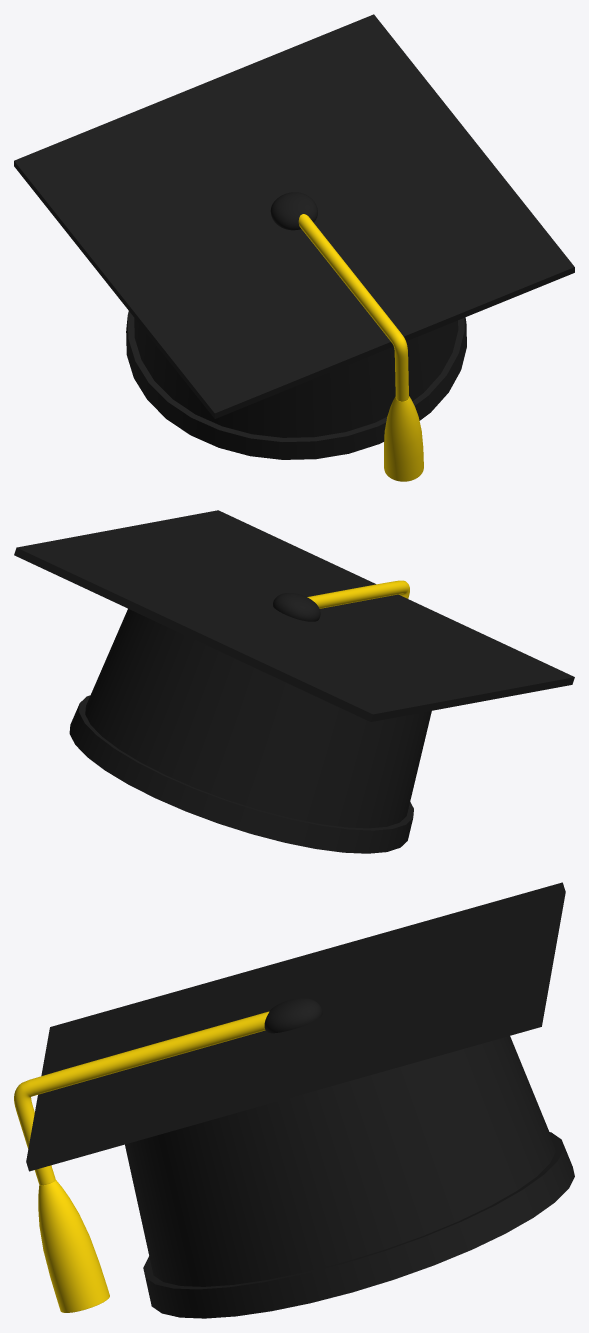
The model's file is custom1.glb.
3 renders of one model, top to bottom at view 1: azimuth 30°, elevation 25°; view 2: azimuth 150°, elevation 25°; view 3: azimuth 270°, elevation 25°, orthographic. The views are drawn at different scales.
Parts seen in each view (by area): view 1: Cube, Cylinder, Cylinder.002, Cube.001; view 2: Cylinder, Cube, Cylinder.002, Cube.001; view 3: Cylinder, Cube, Cylinder.002, Cube.001.
Part boxes in pixels (left/top/right/bottom): Cube: left=14, top=14, right=574, bottom=418; Cylinder: left=126, top=311, right=466, bottom=459; Cylinder.002: left=298, top=214, right=423, bottom=481; Cube.001: left=270, top=192, right=317, bottom=230; Cylinder: left=69, top=608, right=431, bottom=853; Cube: left=14, top=510, right=574, bottom=721; Cylinder.002: left=307, top=580, right=409, bottom=608; Cube.001: left=273, top=593, right=320, bottom=621; Cylinder: left=125, top=1036, right=574, bottom=1318; Cube: left=26, top=882, right=565, bottom=1171; Cylinder.002: left=14, top=1011, right=269, bottom=1312; Cube.001: left=264, top=998, right=322, bottom=1033.
Bounding box in the file's own units: 1.99 × 1.59 × 2.09.
